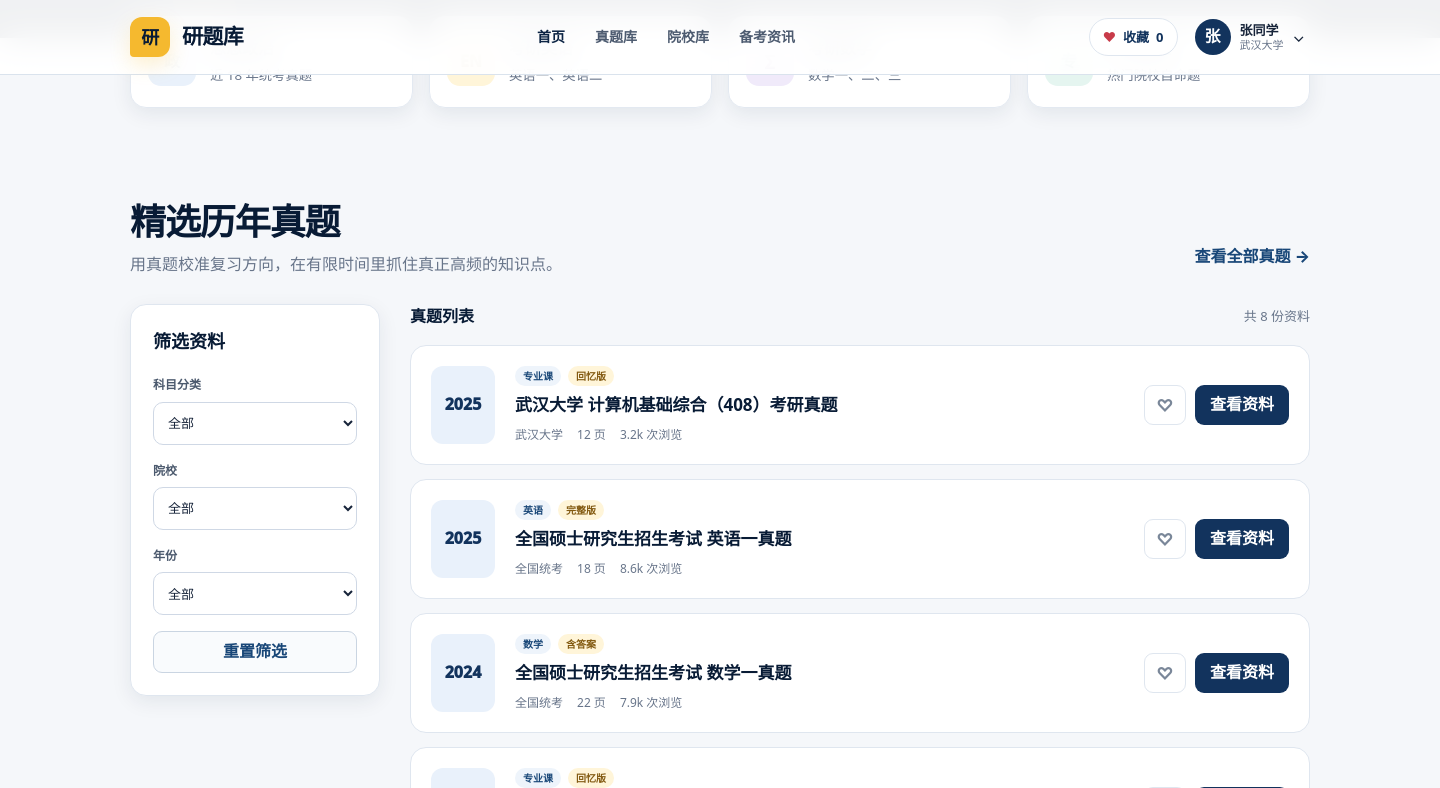
Test case: PaperExplorer › persists favorites and exposes the updated count
(page scrolled)
Expected: the text "2025 专业课 回忆版 武汉大学 计算机基础综合（408）考研真题 武汉大学 12 页 3.2k 次浏览 ♡ 查看资料" is shown, x1=410 y1=345 x2=1310 y2=465
Click the button named "收藏 武汉大学" at (1165, 405), box x1=1144 y1=385 x2=1186 y2=425
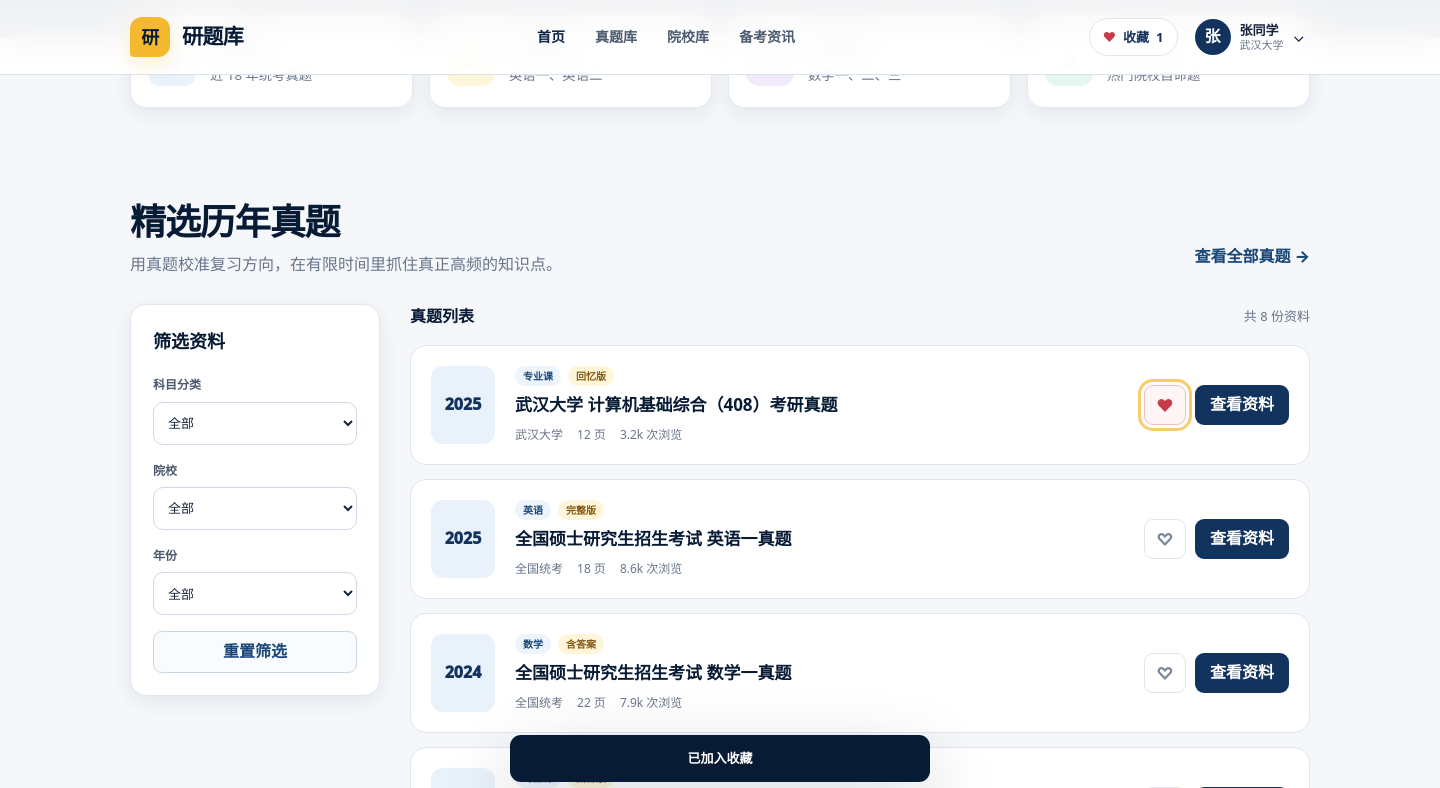
Result: the text with test id "favorite-count" reads "1" at x1=1156 y1=28 x2=1164 y2=46
